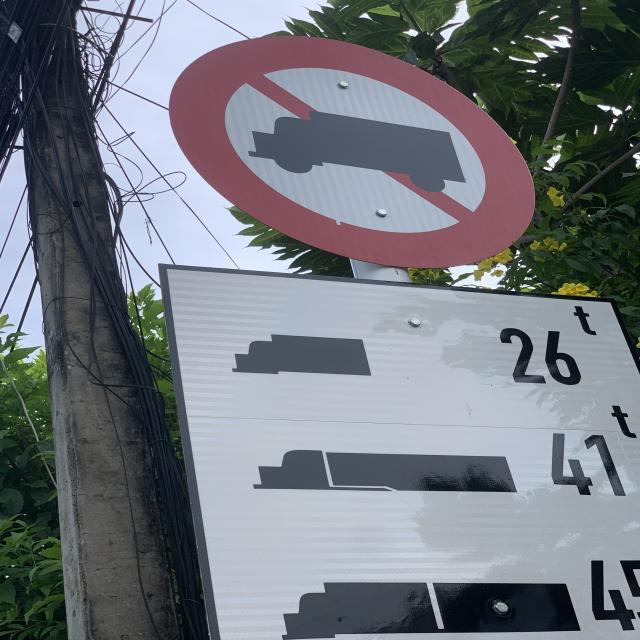Cam_Xe_Tai: (168, 34, 540, 264)
